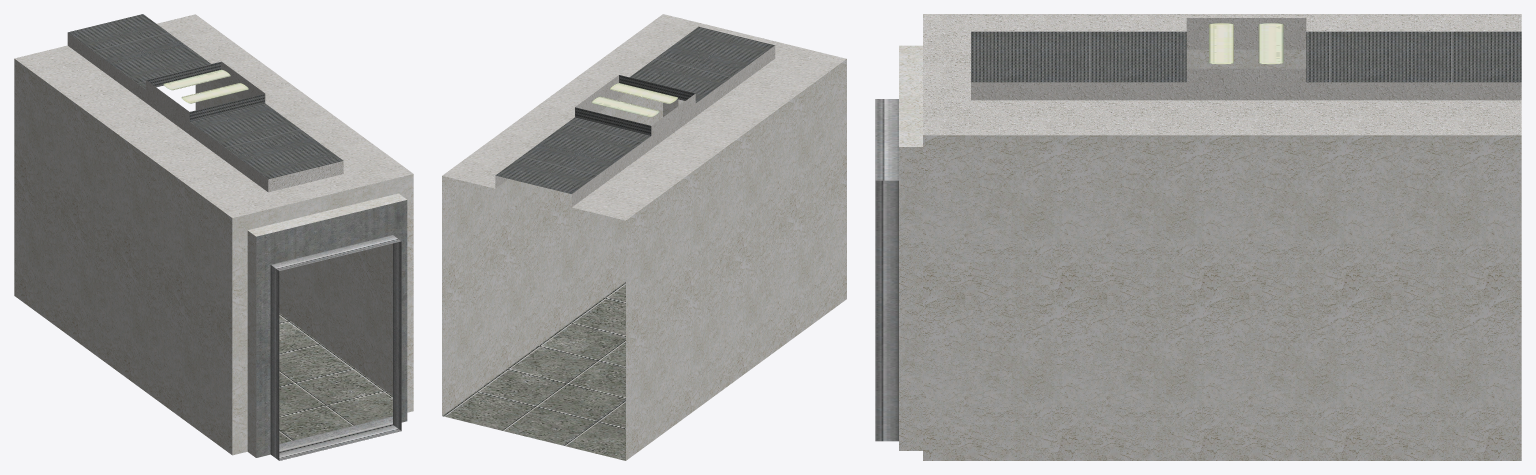
File: ply_corl_house_sm_s01_fp2_r1_entry_mesh.fbx
3 renders of one model, left to right at view 1: azimuth 30°, elevation 25°; view 2: azimuth 150°, elevation 25°; view 3: azimuth 270°, elevation 25°, orthographic. The views are drawn at different scales.
Visible parts, largest first — view 1: mesh_node; view 2: mesh_node; view 3: mesh_node.
Part boxes in pixels (box(x1,y1,x2,y2)): mesh_node: box(14, 14, 413, 460); mesh_node: box(442, 14, 846, 460); mesh_node: box(875, 14, 1521, 460).
Size of the model in its own units: 3 by 4.11 by 6.75.
